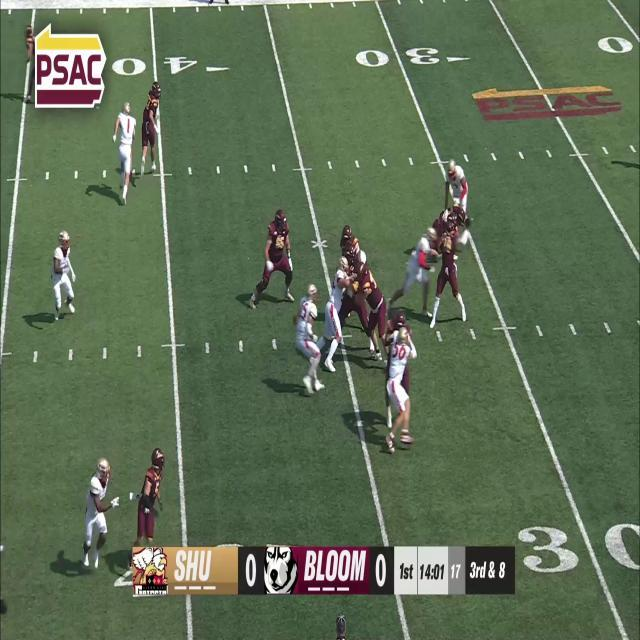football: (462, 214, 472, 232)
